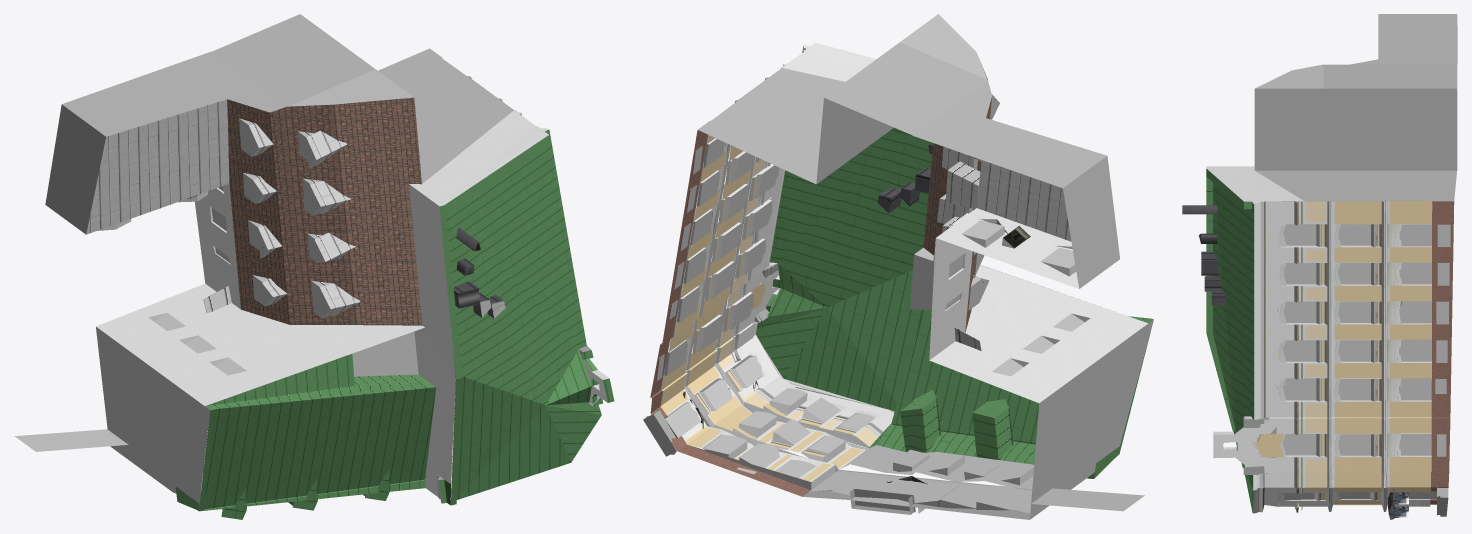
File: Nunne_12-origo.obj
3 views of the same model, side by side, from view 1: azimuth 30°, elevation 25°; view 2: azimuth 150°, elevation 25°; view 3: azimuth 270°, elevation 25° (orthographic). The views are drawn at different scales.
Parts seen in each view (by area): view 1: Nunne_12; view 2: Nunne_12; view 3: Nunne_12.
Boxes of the visible parts, box(x1,y1,x2,y2) form: Nunne_12: box(14, 14, 614, 519); Nunne_12: box(643, 14, 1153, 519); Nunne_12: box(1182, 14, 1457, 519).
Bounding box in the file's own units: 31.19 × 26.5 × 17.47.
